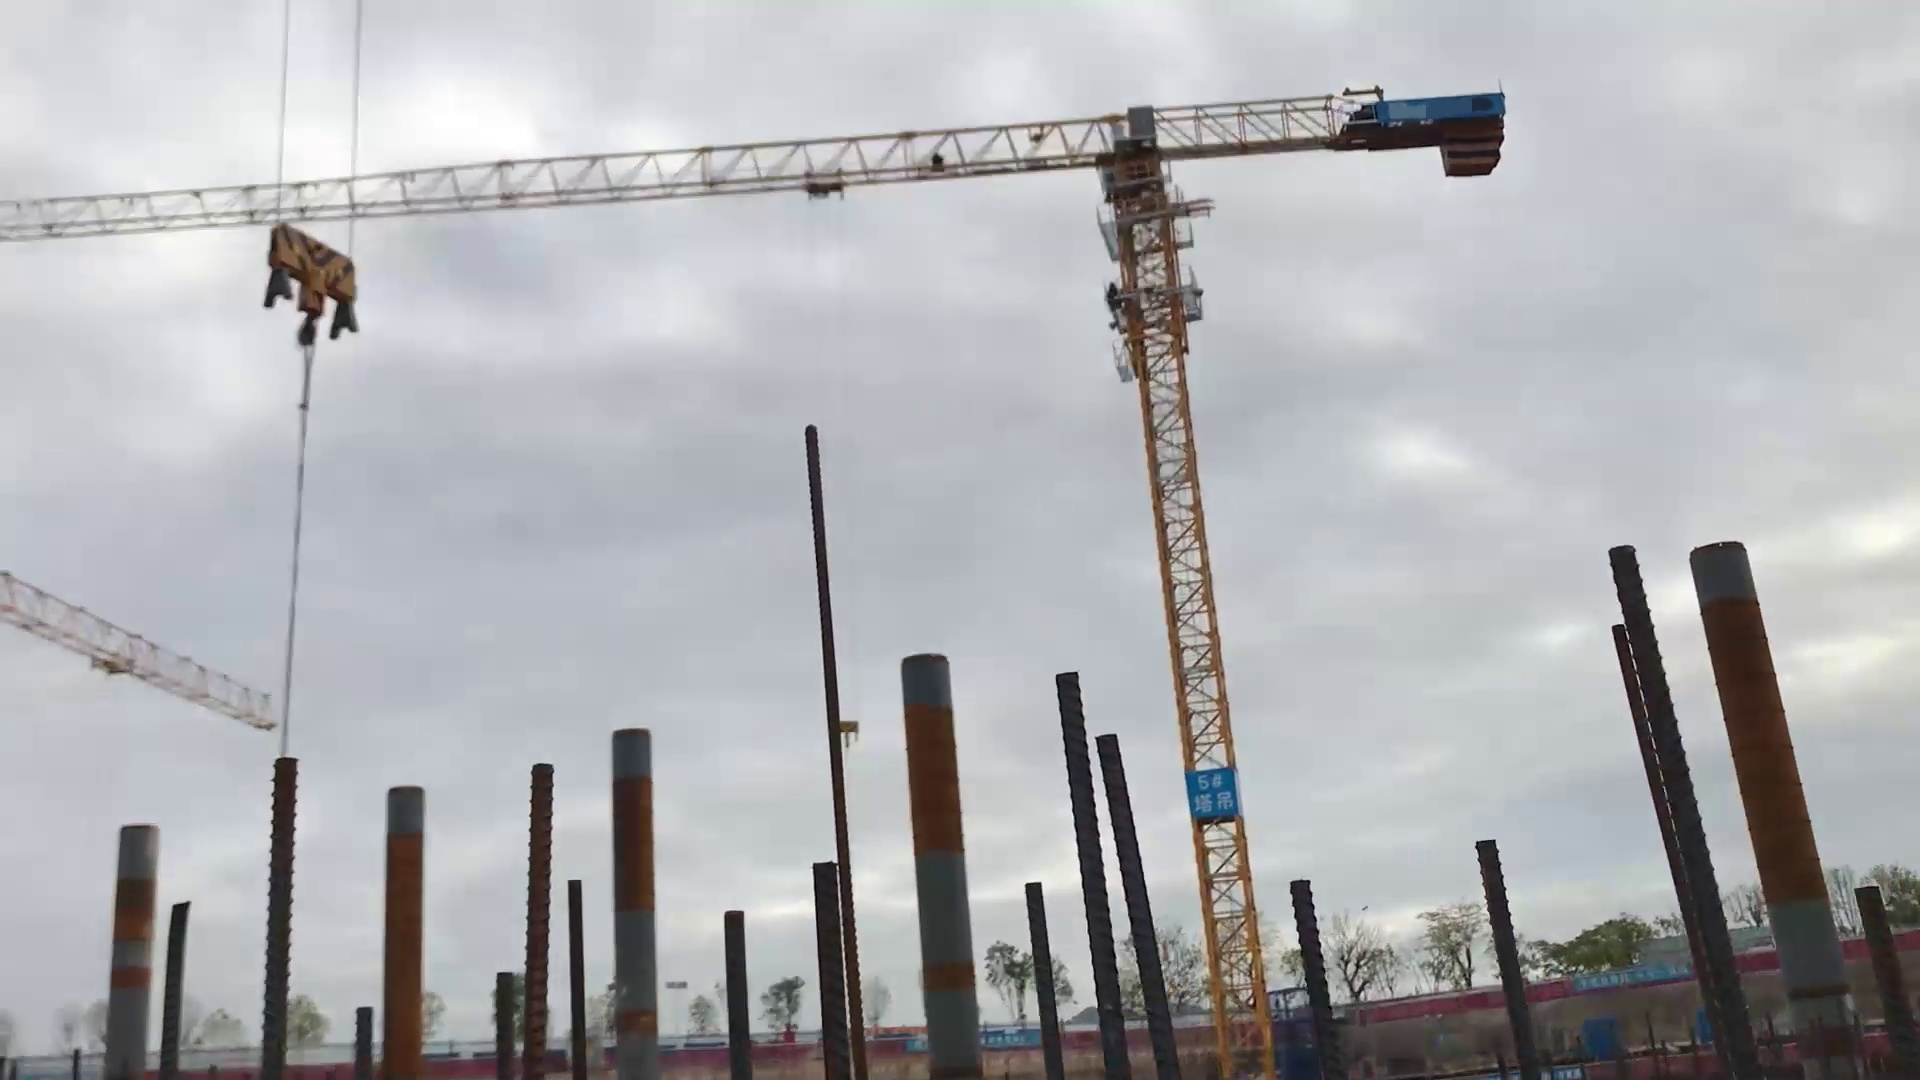hook: (265, 212, 361, 357)
